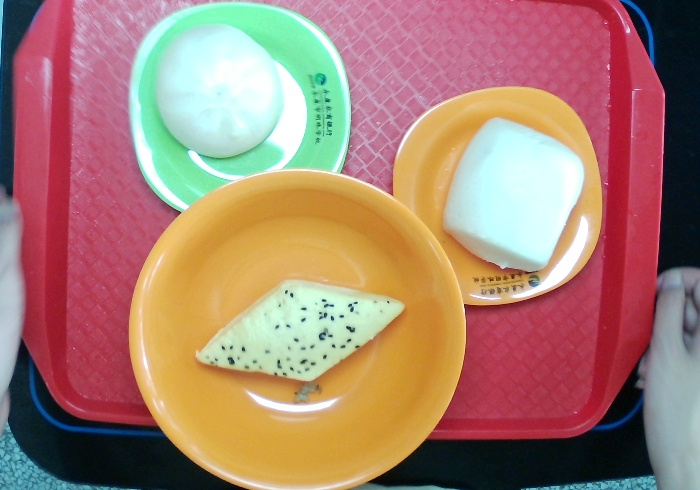YKMZ-Ju_Se_Fang_Die: (388, 84, 604, 309)
YKMZ-Ju_Se_Tang_Wan: (125, 168, 468, 490)
YKMZ-Lv_Se_Fang_Die: (127, 3, 350, 209)
